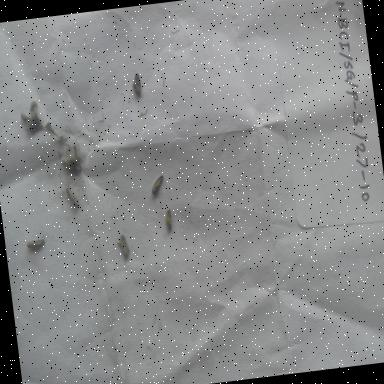pbw: (110, 228, 140, 263), (21, 231, 52, 255), (146, 172, 168, 197), (62, 180, 80, 210), (127, 70, 145, 100), (159, 203, 176, 233), (26, 96, 44, 124), (58, 154, 78, 176), (17, 109, 33, 130), (65, 154, 82, 167)
